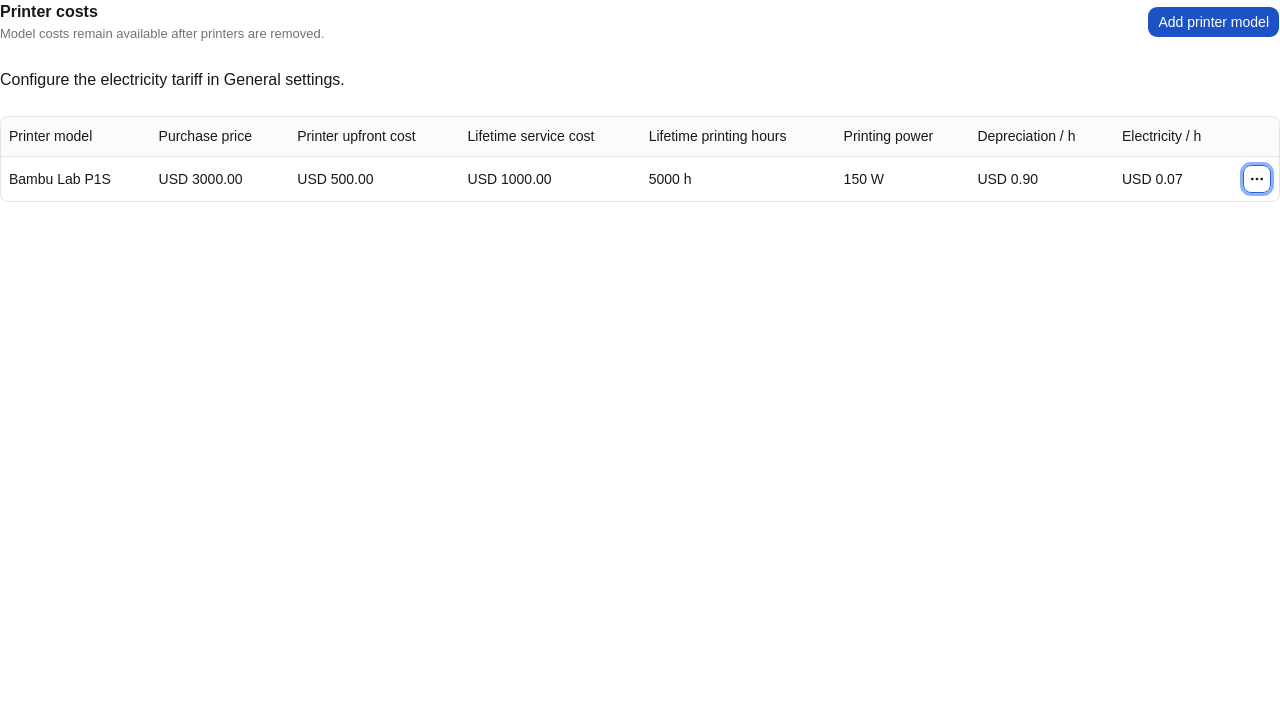
it: confirms removal, refreshes the list, and focuses the add link
Press Enter End Enter
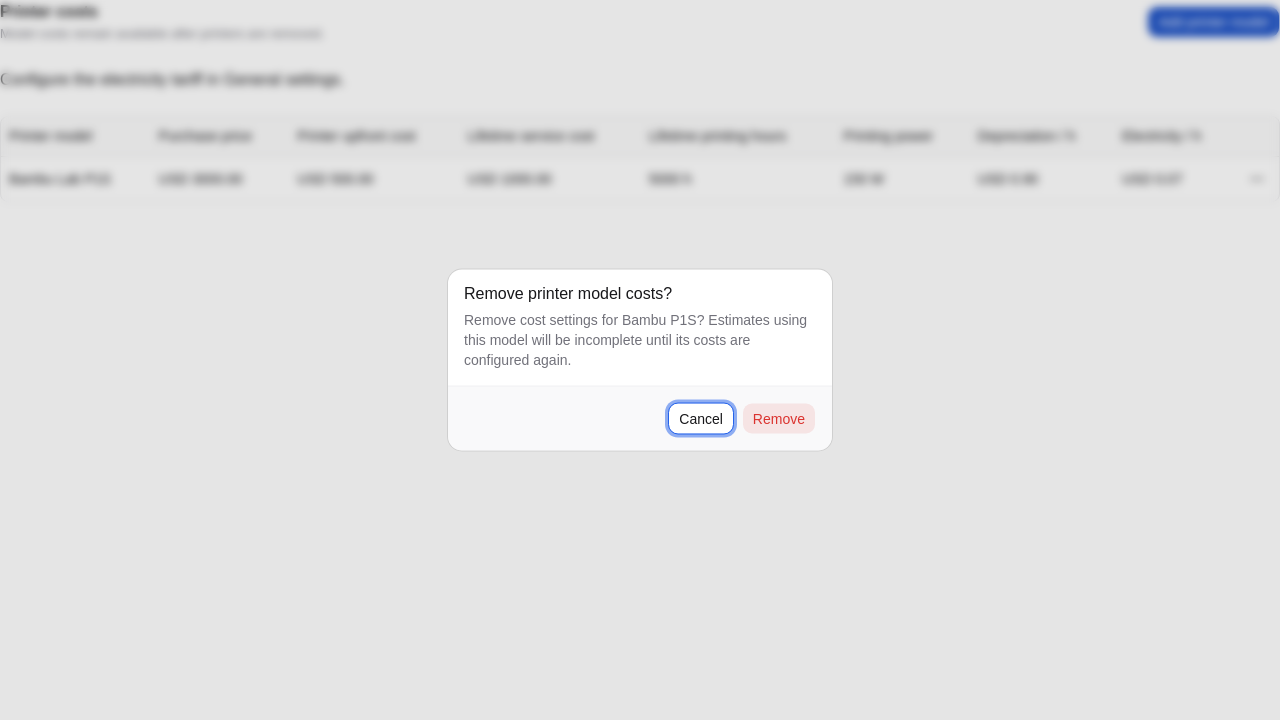
expect the dialog is shown: met, box [448, 270, 832, 450]
Click the button "Remove" at (779, 418), box [742, 402, 816, 434]
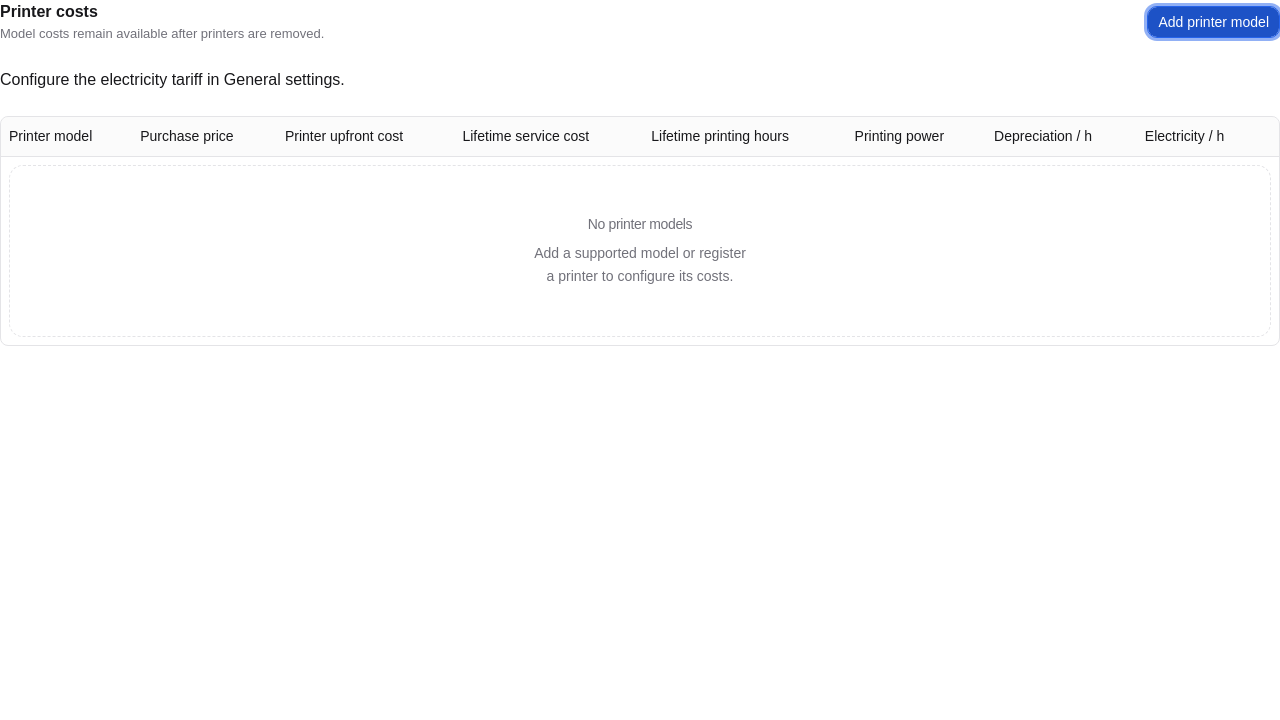
expect the text "No printer models" is shown: met, box [588, 214, 692, 234]
